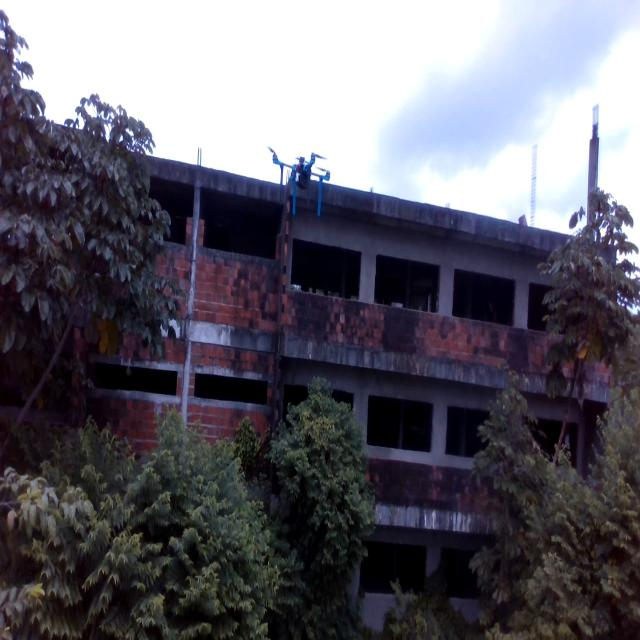-uav-: (262, 129, 335, 230)
